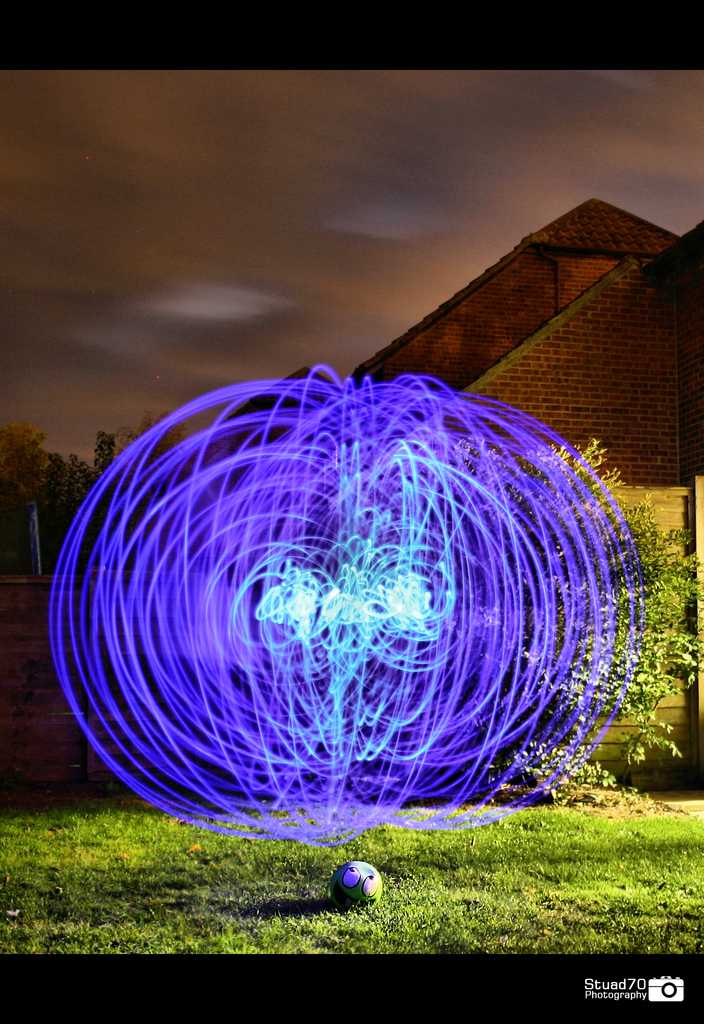Ball: (335, 862, 378, 909)
